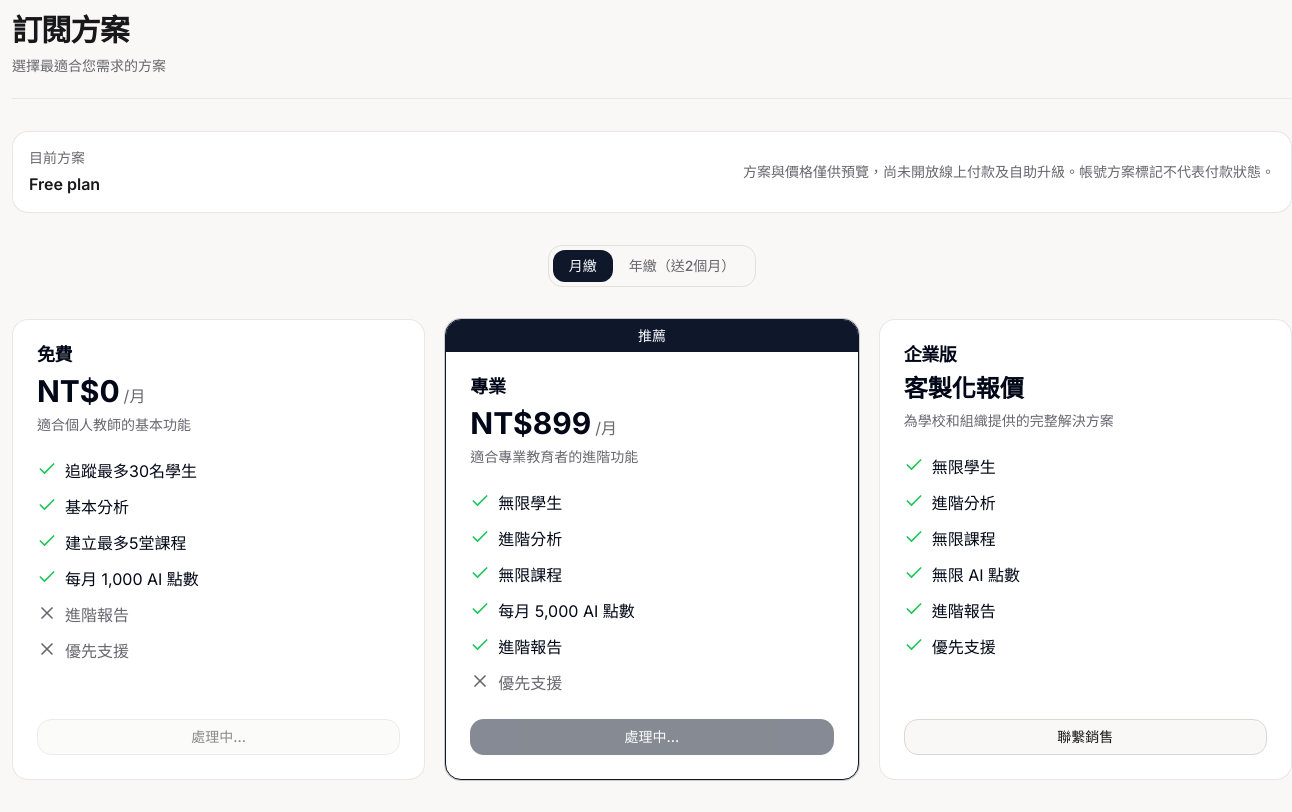
Test: SubscriptionPage › switches to annual pricing (with a savings note on Pro only) when that toggle is picked
This screenshot has width=1292, height=812.
Click the button "年繳（送2個月）". click: (682, 266)
box: [613, 250, 751, 282]
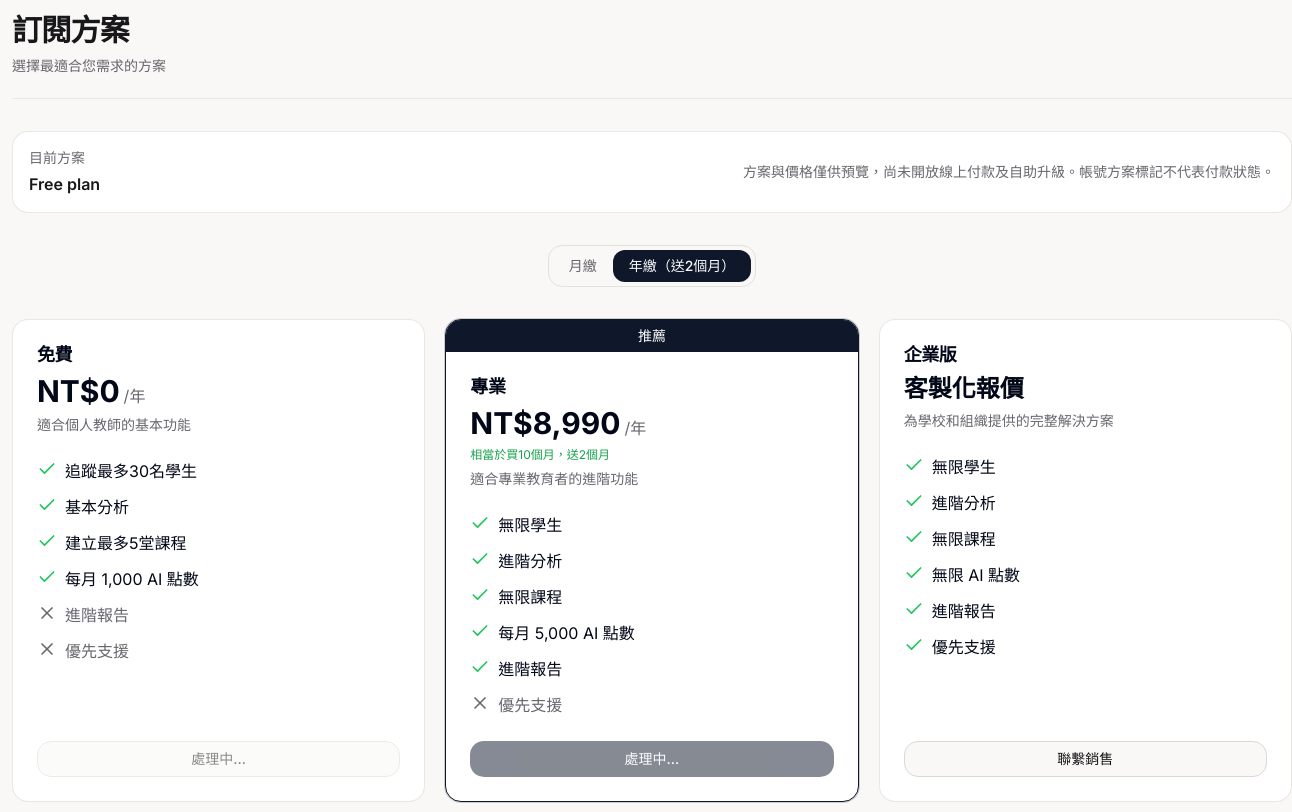
Now the text "NT$8,990" is shown, box [470, 404, 620, 440]
Now the text "NT$899" is gone
Now the text "相當於買10個月，送2個月" is shown, box [470, 446, 610, 462]
Click the button "月繳". click: (583, 266)
box: [553, 250, 613, 282]
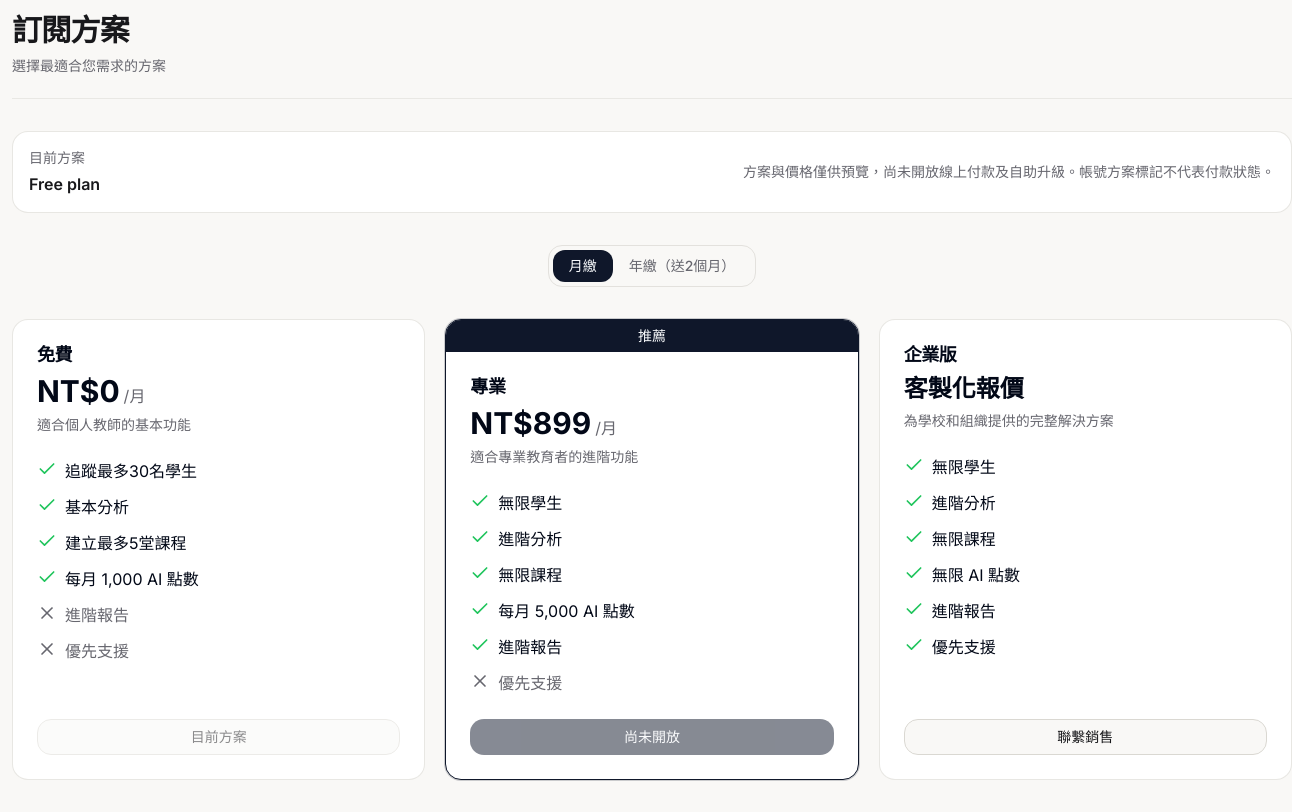
Now the text "NT$899" is shown, box [470, 404, 591, 440]
Now the text "NT$8,990" is gone
Now the text "相當於買10個月，送2個月" is gone
